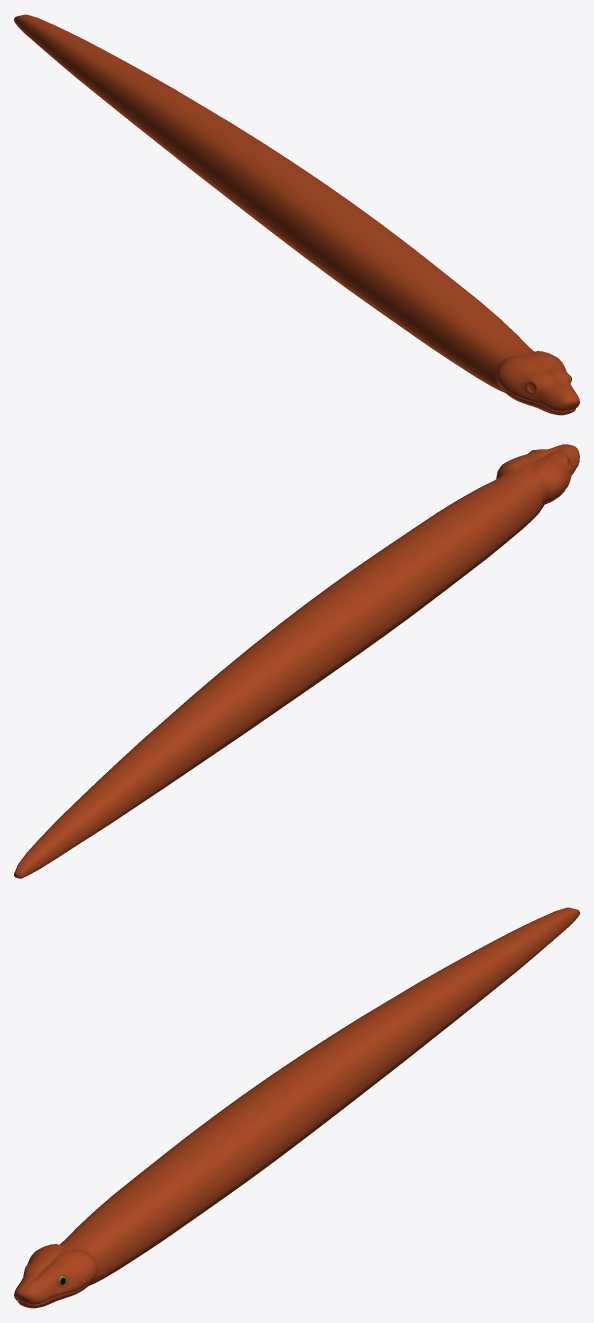
The model's file is boa_constrictor.obj.
3 renders of one model, top to bottom at view 1: azimuth 30°, elevation 25°; view 2: azimuth 150°, elevation 25°; view 3: azimuth 330°, elevation 25°, orthographic.
Parts seen in each view (by area): view 1: boa; view 2: boa; view 3: boa.
Boxes of the visible parts, bbox=[...] form: boa: bbox=[14, 14, 579, 415]; boa: bbox=[14, 444, 579, 878]; boa: bbox=[14, 907, 579, 1308].
Bounding box in the file's own units: 0.1981 × 0.1408 × 2.95.
